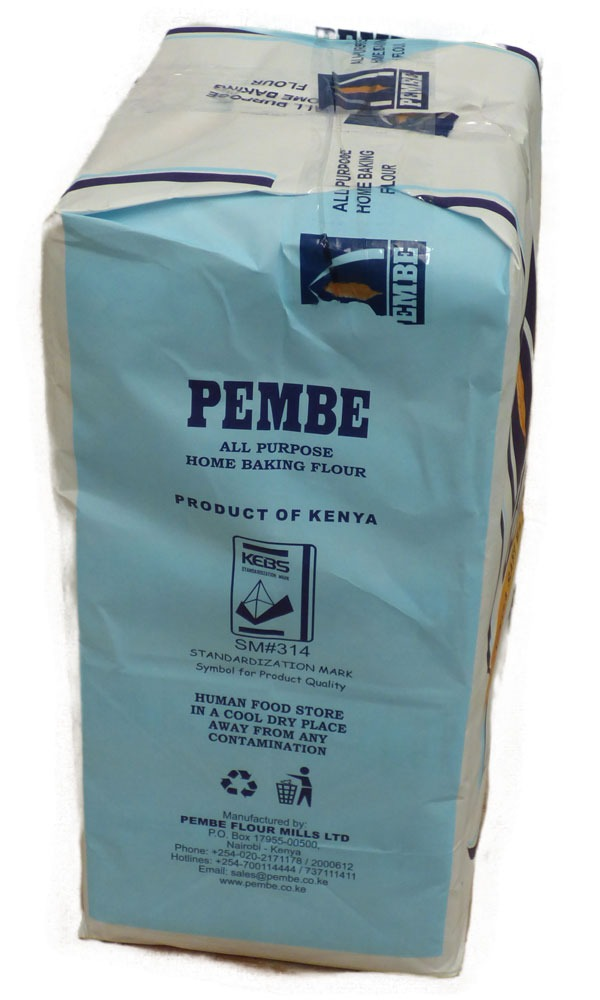wheat_flour_blue_label: (58, 26, 484, 958)
